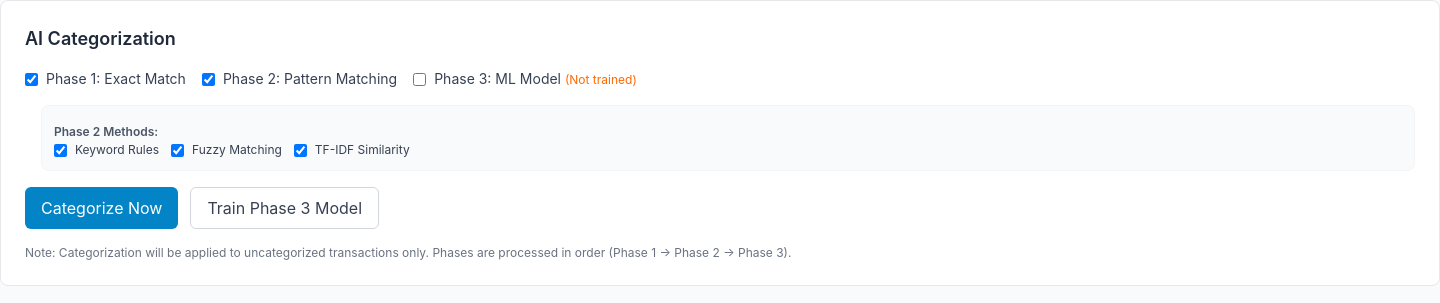
CategorizationControls › should disable categorize button when all phases are unchecked
Click the checkbox labelled "Phase 1: Exact Match" at (32, 79), box [25,72,38,86]
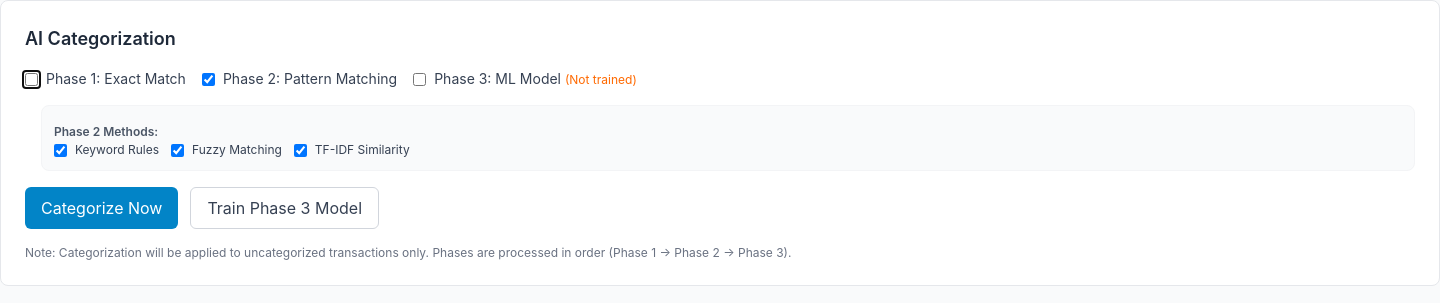
Click the checkbox labelled "Phase 2: Pattern Matching" at (208, 79), box [202,72,215,86]
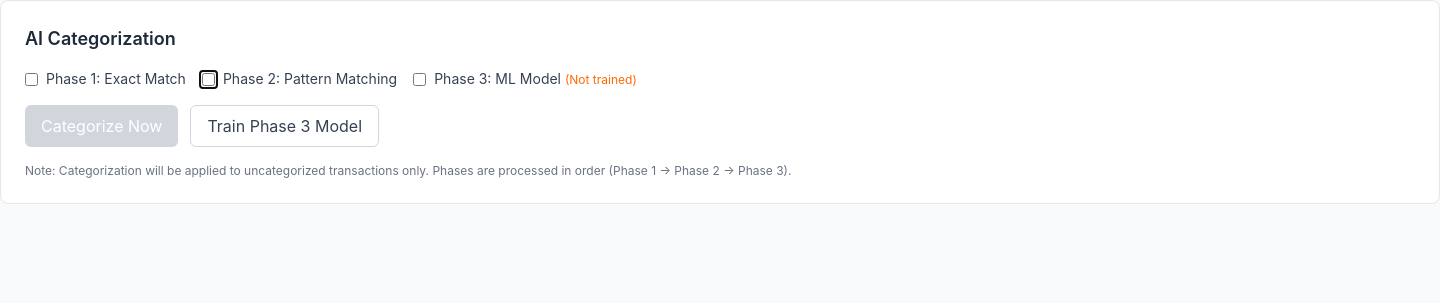
Check: the button "Categorize Now" is disabled, box [25,105,178,147]
